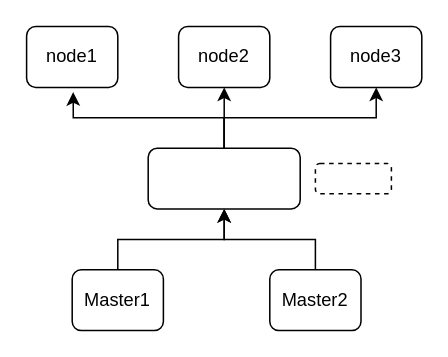
This 448x357 diagram has some shape labels left out. Each missing label, with the box of its shape:
load balancer: (147, 147, 300, 209)
VIP: (314, 162, 391, 194)
